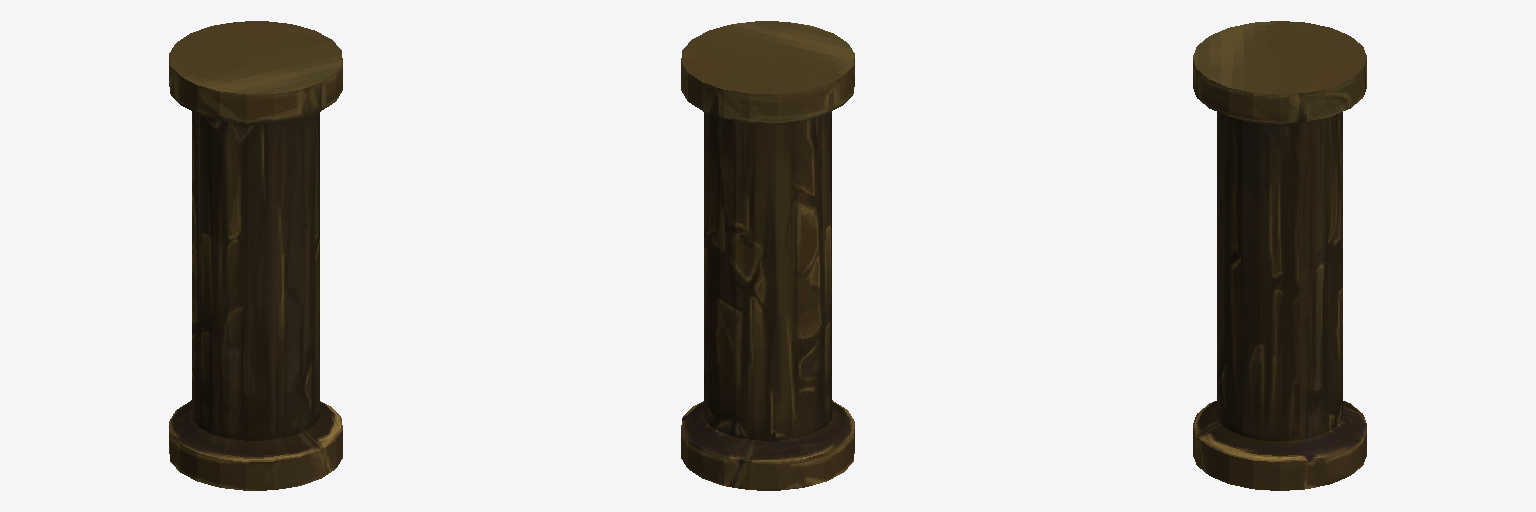
The picture shows the model from 3 angles: view 1: azimuth 30°, elevation 25°; view 2: azimuth 150°, elevation 25°; view 3: azimuth 270°, elevation 25°; orthographic projection.
Visible parts, largest first — view 1: pCylinder1; view 2: pCylinder1; view 3: pCylinder1.
Part boxes in pixels (bbox=[...]): pCylinder1: bbox=[169, 21, 342, 490]; pCylinder1: bbox=[681, 21, 854, 490]; pCylinder1: bbox=[1193, 21, 1366, 490].
Size of the model in its own units: 0.8 by 2 by 0.8.
1 materials, 1 textured.